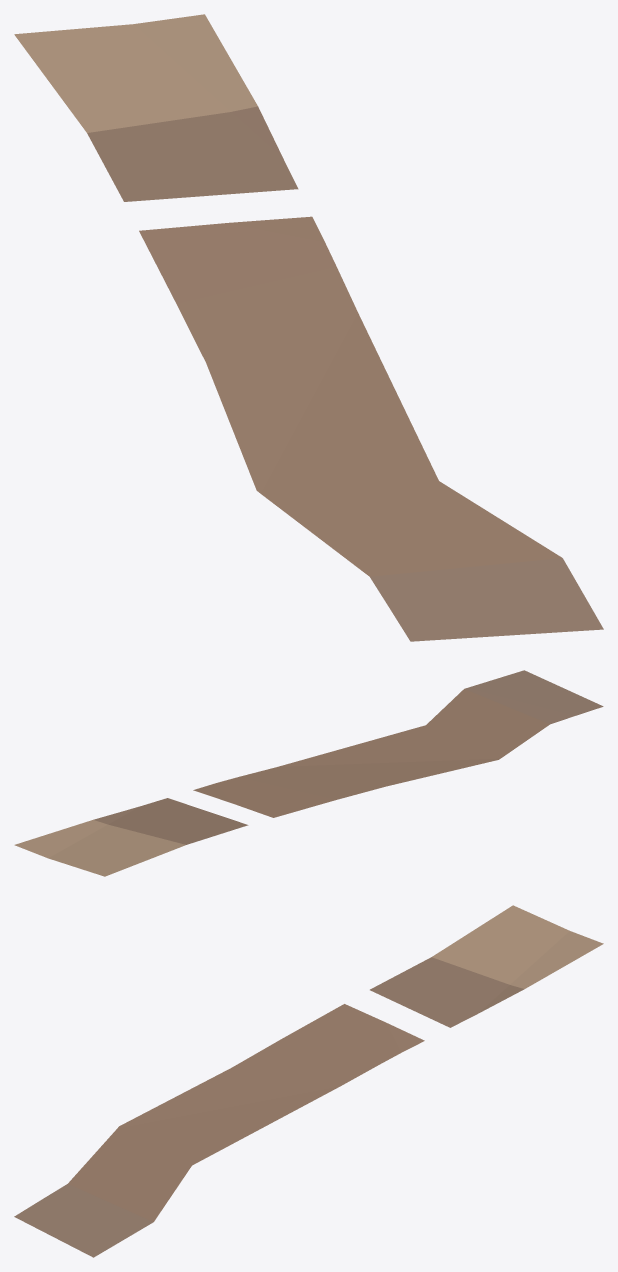
The model's file is farm_-17_-24_soil.glb.
3 renders of one model, top to bottom at view 1: azimuth 30°, elevation 25°; view 2: azimuth 150°, elevation 25°; view 3: azimuth 330°, elevation 25°, orthographic. The views are drawn at different scales.
Parts seen in each view (by area): view 1: geometry_0; view 2: geometry_0; view 3: geometry_0.
Boxes of the visible parts, x1,y1,x2,y2 form: geometry_0: [14, 14, 603, 641]; geometry_0: [14, 670, 603, 876]; geometry_0: [14, 905, 603, 1257].
Bounding box in the file's own units: 58.11 × 17.49 × 170.
